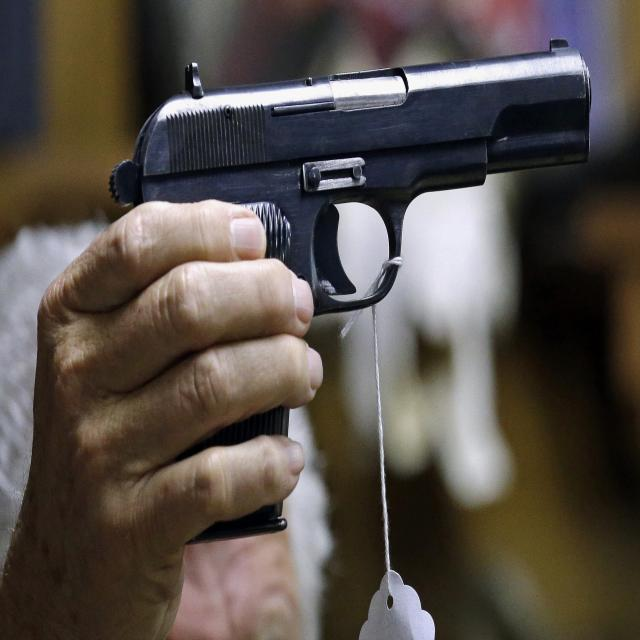Weapon: (106, 29, 608, 558)
